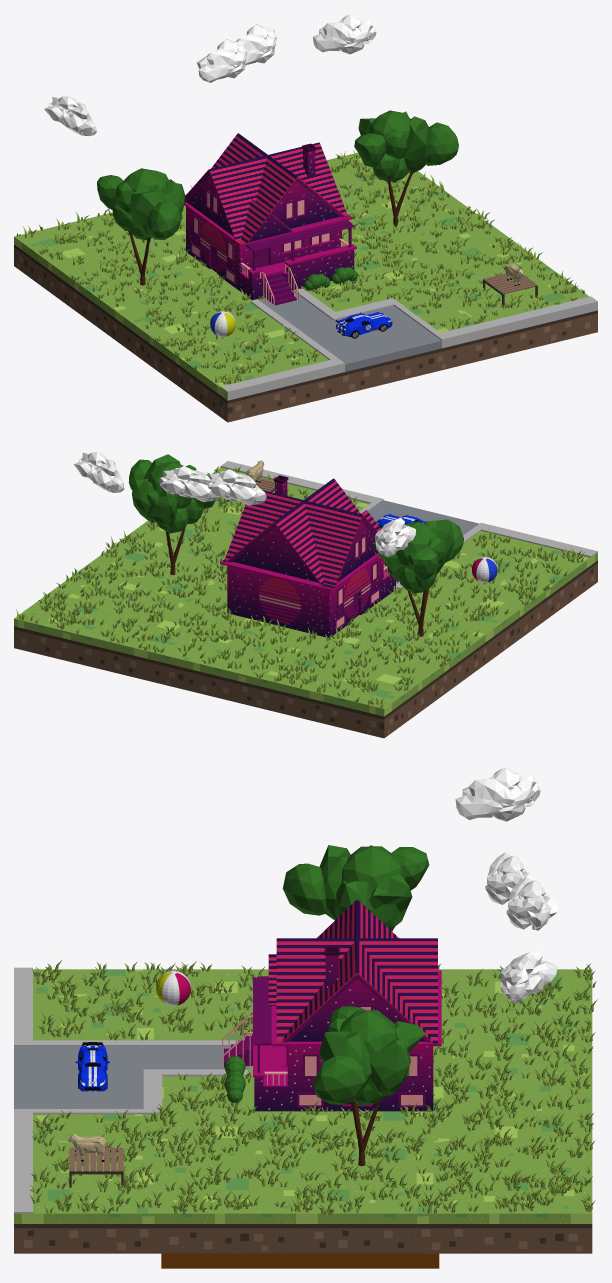
The picture shows the model from 3 angles, top to bottom: view 1: azimuth 30°, elevation 25°; view 2: azimuth 150°, elevation 25°; view 3: azimuth 270°, elevation 25°; orthographic projection. The views are drawn at different scales.
Visible parts, largest first — view 1: Cube.006, Cube.156, Circle.012_Grass_0.192, Cube.007, tree, tree.001, VEHICLES_RACING_CAR, Cube.009, OBJRANDOM_BEACHBALL; view 2: Cube.006, Cube.156, Circle.012_Grass_0.192, Cube.007, tree.001, tree, OBJRANDOM_BEACHBALL; view 3: Cube.006, Circle.012_Grass_0.192, Cube.156, tree, Cube.007, tree.001, UNDERGROUND_ART_PIECE_VAN_GOGH, VEHICLES_RACING_CAR, Cube.009, OBJRANDOM_BEACHBALL, ANIMAL_OVEJA.
Part boxes in pixels (bbox=[...]): Cube.006: bbox=[14, 152, 597, 422]; Cube.156: bbox=[184, 133, 356, 306]; Circle.012_Grass_0.192: bbox=[16, 150, 584, 384]; Cube.007: bbox=[44, 14, 376, 136]; tree: bbox=[354, 110, 458, 227]; tree.001: bbox=[97, 168, 185, 285]; VEHICLES_RACING_CAR: bbox=[335, 312, 392, 338]; Cube.009: bbox=[483, 273, 537, 305]; OBJRANDOM_BEACHBALL: bbox=[210, 311, 235, 337]; Cube.006: bbox=[14, 461, 597, 738]; Cube.156: bbox=[220, 475, 395, 637]; Circle.012_Grass_0.192: bbox=[16, 466, 584, 708]; Cube.007: bbox=[73, 451, 415, 557]; tree.001: bbox=[372, 519, 463, 636]; tree: bbox=[128, 454, 215, 574]; OBJRANDOM_BEACHBALL: bbox=[472, 557, 497, 582]; Cube.006: bbox=[14, 967, 592, 1253]; Circle.012_Grass_0.192: bbox=[29, 960, 597, 1214]; Cube.156: bbox=[221, 900, 441, 1111]; tree: bbox=[313, 1006, 425, 1166]; Cube.007: bbox=[455, 767, 557, 1003]; tree.001: bbox=[282, 845, 429, 931]; UNDERGROUND_ART_PIECE_VAN_GOGH: bbox=[161, 1253, 439, 1268]; VEHICLES_RACING_CAR: bbox=[75, 1042, 109, 1091]; Cube.009: bbox=[69, 1147, 123, 1187]; OBJRANDOM_BEACHBALL: bbox=[156, 970, 190, 1005]; ANIMAL_OVEJA: bbox=[67, 1134, 106, 1161].
Bounding box in the file's own units: 4071 × 2301 × 4040.
36 materials, 6 textured.
